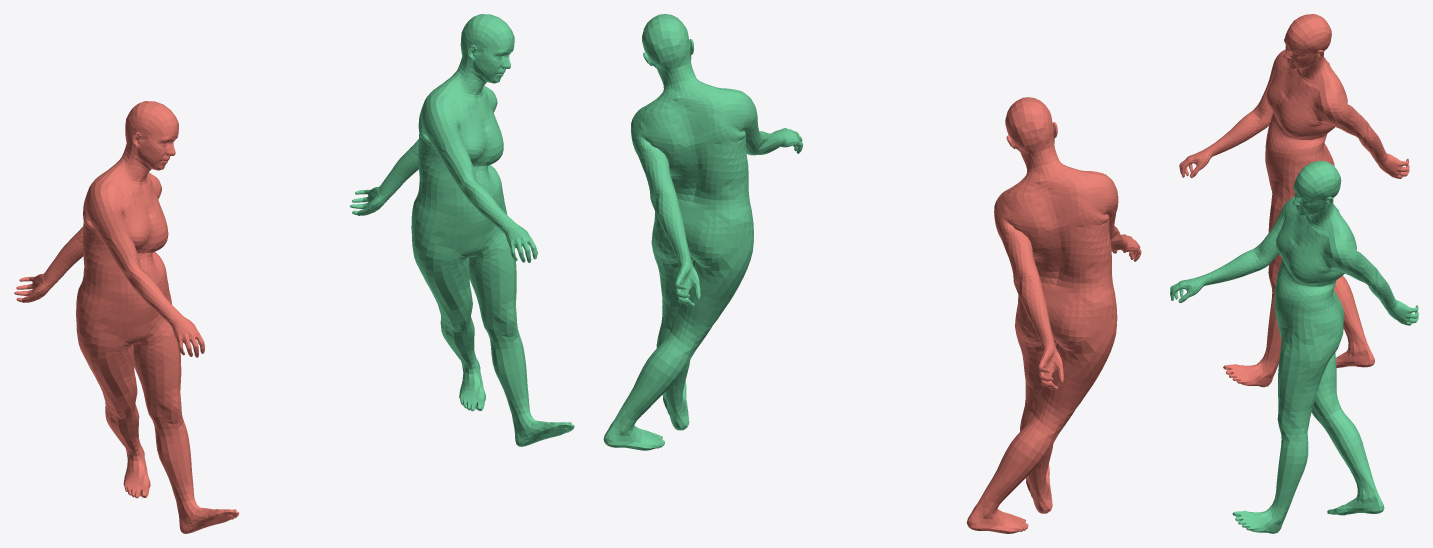
File: pose_288_before_after.glb
The picture shows the model from 3 angles, left to right: view 1: azimuth 30°, elevation 25°; view 2: azimuth 150°, elevation 25°; view 3: azimuth 270°, elevation 25°; orthographic projection. The views are drawn at different scales.
Visible parts, largest first — view 1: input_red, poseshield_green; view 2: poseshield_green, input_red; view 3: poseshield_green, input_red.
Boxes of the visible parts, box(x1,y1,x2,y2) form: input_red: box(14, 101, 239, 533); poseshield_green: box(350, 14, 574, 446); poseshield_green: box(603, 14, 803, 450); input_red: box(966, 97, 1141, 533); poseshield_green: box(1170, 160, 1418, 533); input_red: box(1179, 14, 1409, 387).
Size of what is drawn, in the model's own units: 1.96 by 1.67 by 1.03.
